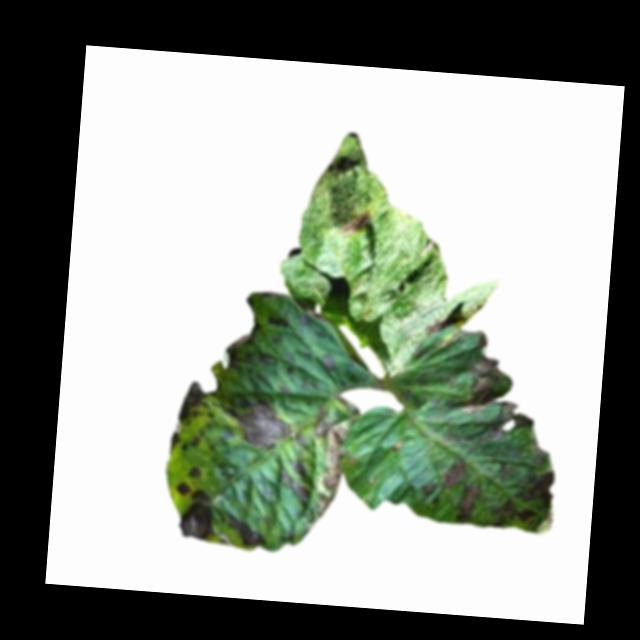Early_blight: (496, 445, 558, 535), (312, 406, 351, 521), (222, 393, 297, 452), (473, 399, 537, 449), (462, 329, 506, 401), (168, 380, 211, 453), (174, 482, 221, 540), (451, 481, 484, 524), (279, 463, 313, 504), (226, 514, 266, 547), (340, 207, 375, 239), (442, 455, 467, 491), (424, 315, 446, 336), (265, 312, 290, 329), (319, 352, 340, 372), (292, 459, 309, 478), (184, 463, 204, 478)
